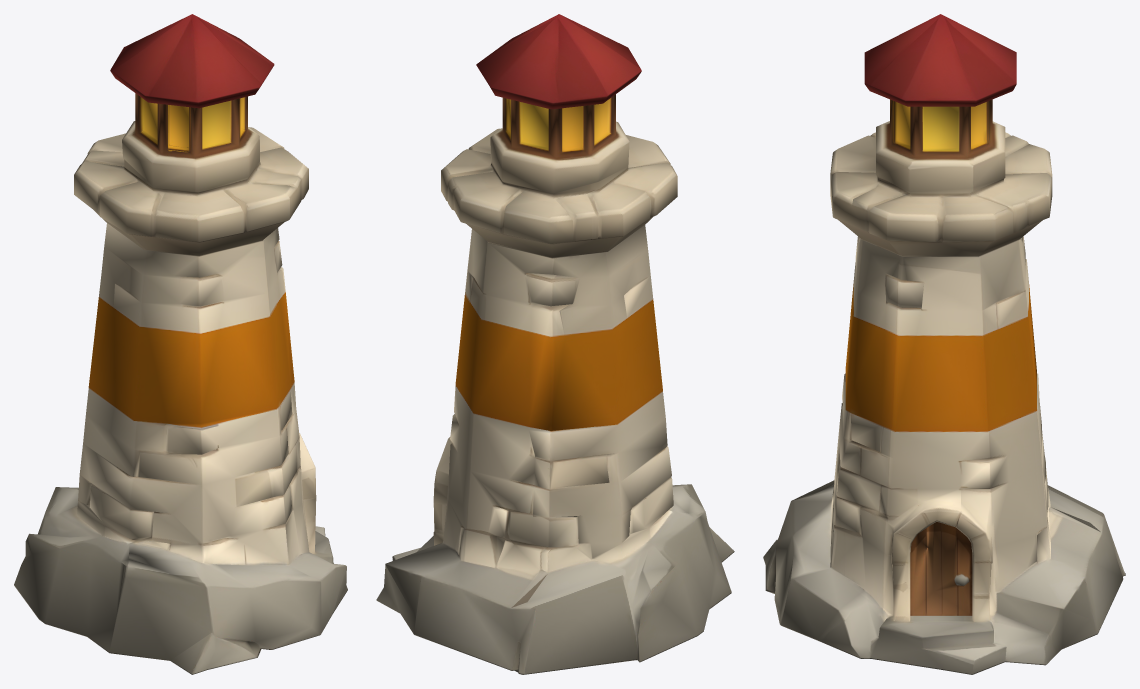
3 views of the same model, side by side, from view 1: azimuth 30°, elevation 25°; view 2: azimuth 150°, elevation 25°; view 3: azimuth 270°, elevation 25° (orthographic).
Visible parts, largest first — view 1: tripo_node_6cbde80e-8a1b-4c99-b6db-cc024df64b02; view 2: tripo_node_6cbde80e-8a1b-4c99-b6db-cc024df64b02; view 3: tripo_node_6cbde80e-8a1b-4c99-b6db-cc024df64b02.
Part boxes in pixels (x1=…): tripo_node_6cbde80e-8a1b-4c99-b6db-cc024df64b02: x1=14, y1=14, x2=347, y2=674; tripo_node_6cbde80e-8a1b-4c99-b6db-cc024df64b02: x1=376, y1=14, x2=734, y2=674; tripo_node_6cbde80e-8a1b-4c99-b6db-cc024df64b02: x1=763, y1=14, x2=1125, y2=674.
Bounding box in the file's own units: 0.5342 × 1 × 0.5597.
Materials: 1 (1 with a texture image).
